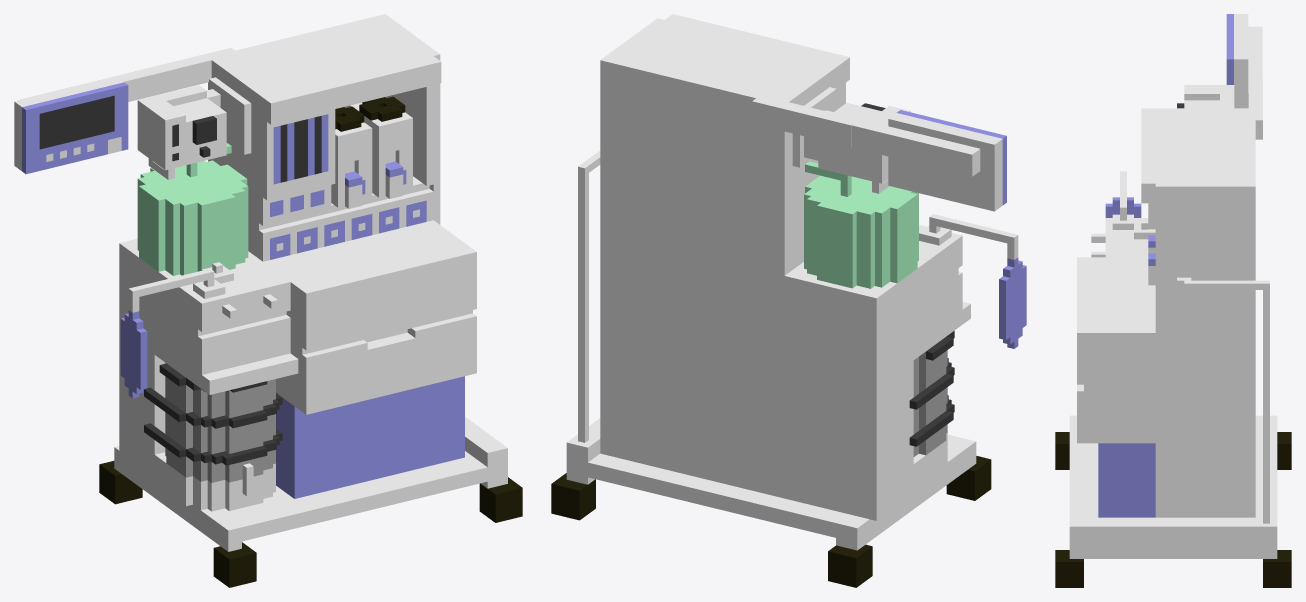
Rendered from Operating_room_Anesthesia_Equip1.fbx.
3 views of the same model, side by side, from view 1: azimuth 30°, elevation 25°; view 2: azimuth 150°, elevation 25°; view 3: azimuth 270°, elevation 25° (orthographic). The views are drawn at different scales.
Parts seen in each view (by area): view 1: Operating room Anesthesia Equip1.002, Operating room Anesthesia Equip1.001, Operating room Anesthesia Equip1.003; view 2: Operating room Anesthesia Equip1.002, Operating room Anesthesia Equip1.001, Operating room Anesthesia Equip1.003; view 3: Operating room Anesthesia Equip1.002, Operating room Anesthesia Equip1.001, Operating room Anesthesia Equip1.003.
Part boxes in pixels (box(x1,y1,x2,y2)): Operating room Anesthesia Equip1.002: box(99, 14, 522, 587); Operating room Anesthesia Equip1.001: box(14, 63, 177, 174); Operating room Anesthesia Equip1.003: box(138, 48, 238, 89); Operating room Anesthesia Equip1.002: box(551, 14, 1026, 587); Operating room Anesthesia Equip1.001: box(817, 110, 1006, 211); Operating room Anesthesia Equip1.003: box(752, 95, 858, 147); Operating room Anesthesia Equip1.002: box(1055, 85, 1291, 587); Operating room Anesthesia Equip1.001: box(1226, 14, 1262, 108); Operating room Anesthesia Equip1.003: box(1248, 78, 1262, 139).
Size of the model in its own units: 5.9 by 6.1 by 3.3.
